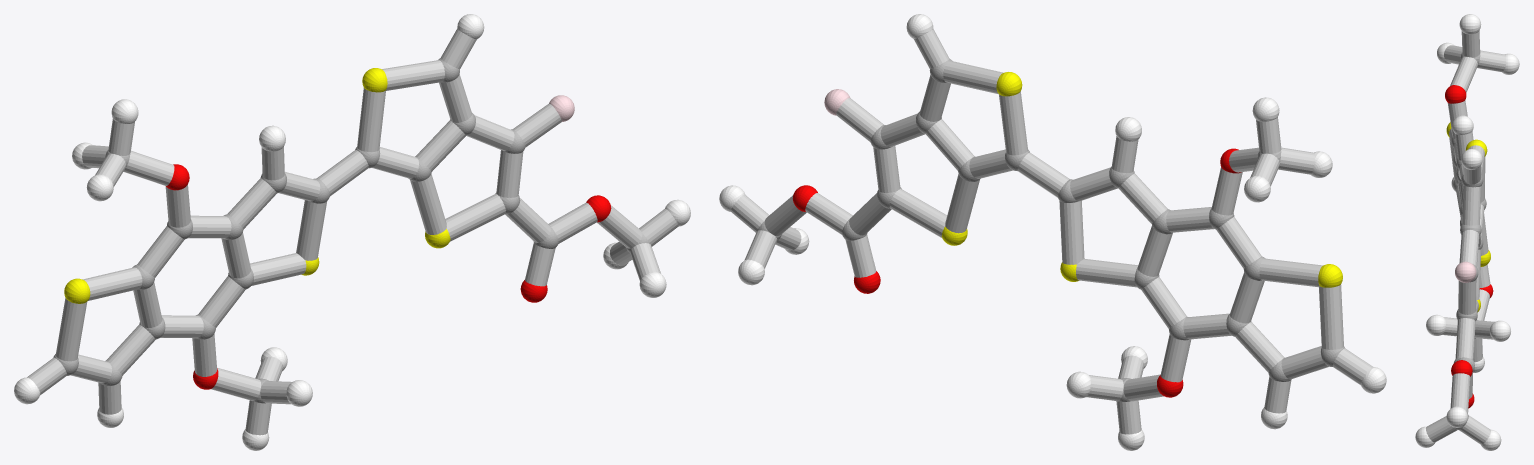
Rendered from Dimethoxy_Benzodithiophene_Phi_5_Theta_350_Methylcarbonyl_3_Fluoro_Thienothiophene.glb.
The picture shows the model from 3 angles, left to right: view 1: azimuth 30°, elevation 25°; view 2: azimuth 150°, elevation 25°; view 3: azimuth 270°, elevation 25°; orthographic projection. The views are drawn at different scales.
Visible parts, largest first — view 1: grp15205, grp8689, grp1, grp7241, grp13395; view 2: grp15205, grp8689, grp1, grp7241, grp13395; view 3: grp15205, grp8689, grp1, grp13395, grp14843, grp7241.
Part boxes in pixels (left/top/right/bottom): grp15205: left=27, top=28, right=678, bottom=435; grp8689: left=14, top=14, right=690, bottom=450; grp1: left=53, top=58, right=649, bottom=403; grp7241: left=64, top=68, right=450, bottom=303; grp13395: left=166, top=164, right=611, bottom=389; grp15205: left=731, top=29, right=1372, bottom=434; grp8689: left=719, top=14, right=1386, bottom=450; grp1: left=757, top=58, right=1344, bottom=401; grp7241: left=941, top=72, right=1342, bottom=287; grp13395: left=792, top=148, right=1241, bottom=397; grp15205: left=1426, top=30, right=1506, bottom=444; grp8689: left=1415, top=14, right=1519, bottom=450; grp1: left=1451, top=53, right=1486, bottom=429; grp13395: left=1445, top=85, right=1493, bottom=408; grp14843: left=1455, top=261, right=1476, bottom=282; grp7241: left=1446, top=122, right=1490, bottom=312.
Bounding box in the file's own units: 17.18 × 9.39 × 2.9.
